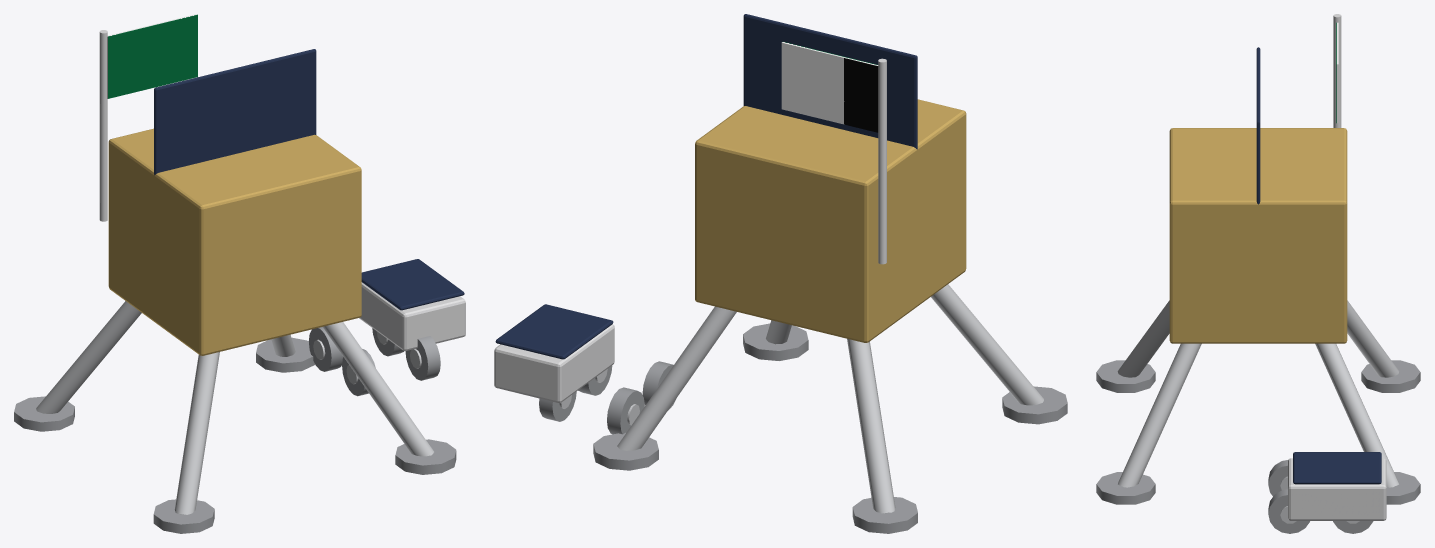
The model's file is mission-rashid.glb.
3 views of the same model, side by side, from view 1: azimuth 30°, elevation 25°; view 2: azimuth 150°, elevation 25°; view 3: azimuth 270°, elevation 25° (orthographic). The views are drawn at different scales.
Visible parts, largest first — view 1: bus, panel, flagcloth, rov, leg_2, leg_3, rov_p, leg_1, flagpole, pad_2, pad_3, pad_1 (+3 smaller); view 2: bus, panel, flagcloth, rov, leg_1, leg_0, rov_p, leg_2, flagpole, pad_1, pad_0, pad_3 (+3 smaller); view 3: bus, rov, leg_3, rov_p, leg_0, leg_1, leg_2, pad_3, pad_1, pad_2, flagpole, pad_0 (+3 smaller).
Part boxes in pixels (left/top/right/bottom): bus: left=108, top=128, right=361, bottom=355; panel: left=154, top=49, right=316, bottom=175; flagcloth: left=107, top=14, right=197, bottom=98; rov: left=359, top=282, right=465, bottom=350; leg_2: left=174, top=352, right=219, bottom=514; leg_3: left=323, top=322, right=433, bottom=456; rov_p: left=361, top=259, right=464, bottom=310; leg_1: left=36, top=301, right=141, bottom=413; flagpole: left=99, top=30, right=107, bottom=221; pad_2: left=153, top=499, right=214, bottom=533; pad_3: left=395, top=439, right=456, bottom=474; pad_1: left=14, top=396, right=74, bottom=431; bus: left=695, top=99, right=966, bottom=342; panel: left=743, top=14, right=917, bottom=149; flagcloth: left=781, top=41, right=878, bottom=132; rov: left=494, top=324, right=614, bottom=402; leg_1: left=847, top=338, right=895, bottom=513; leg_0: left=617, top=306, right=736, bottom=450; rov_p: left=495, top=304, right=613, bottom=359; leg_2: left=931, top=284, right=1043, bottom=405; flagpole: left=878, top=58, right=886, bottom=264; pad_1: left=852, top=497, right=917, bottom=533; pad_0: left=593, top=432, right=658, bottom=470; pad_3: left=743, top=323, right=808, bottom=360; bus: left=1169, top=128, right=1347, bottom=343; rov: left=1288, top=458, right=1386, bottom=520; leg_3: left=1118, top=343, right=1201, bottom=487; rov_p: left=1293, top=452, right=1381, bottom=484; leg_0: left=1315, top=343, right=1398, bottom=487; leg_1: left=1347, top=300, right=1399, bottom=377; leg_2: left=1117, top=300, right=1169, bottom=377; pad_3: left=1096, top=472, right=1155, bottom=504; pad_1: left=1361, top=360, right=1420, bottom=392; pad_2: left=1096, top=360, right=1155, bottom=392; flagpole: left=1333, top=14, right=1341, bottom=127; pad_0: left=1386, top=472, right=1420, bottom=504.
Size of the model in its own units: 2.74 by 2.66 by 2.05.
6 materials, 1 textured.
